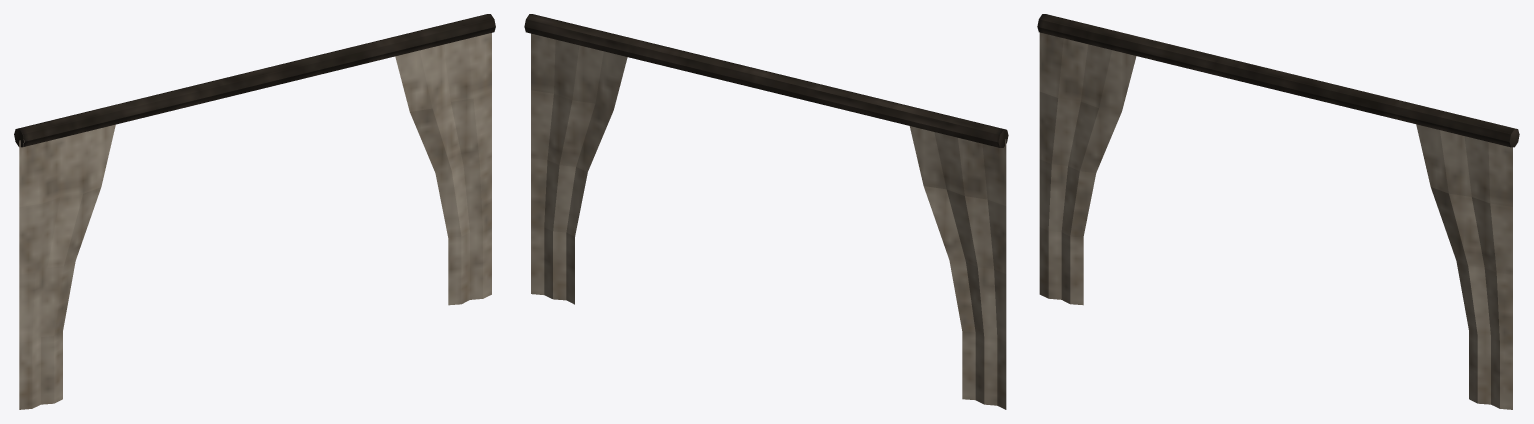
The model's file is SM_EC_House_Curtain_03.fbx.
3 renders of one model, left to right at view 1: azimuth 30°, elevation 25°; view 2: azimuth 150°, elevation 25°; view 3: azimuth 330°, elevation 25°, orthographic.
Visible parts, largest first — view 1: SM_EC_House_Curtain_03; view 2: SM_EC_House_Curtain_03; view 3: SM_EC_House_Curtain_03.
Part boxes in pixels (<box>): SM_EC_House_Curtain_03: <box>14,14,495,409</box>; SM_EC_House_Curtain_03: <box>524,14,1008,409</box>; SM_EC_House_Curtain_03: <box>1037,14,1519,409</box>.
Bounding box in the file's own units: 3.01 × 0.1112 × 1.7.
